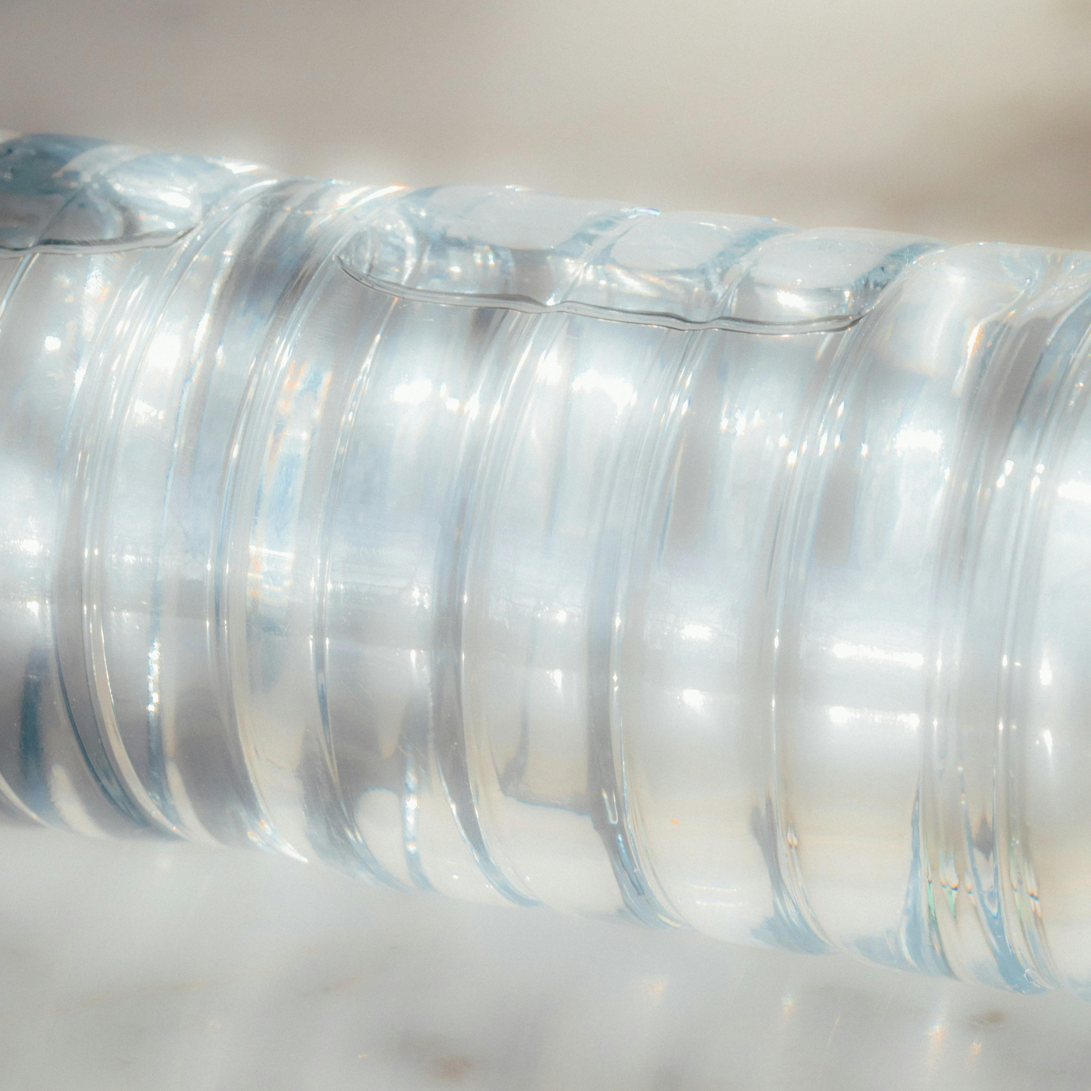Bottle-Detection: (0, 66, 1091, 1067)
